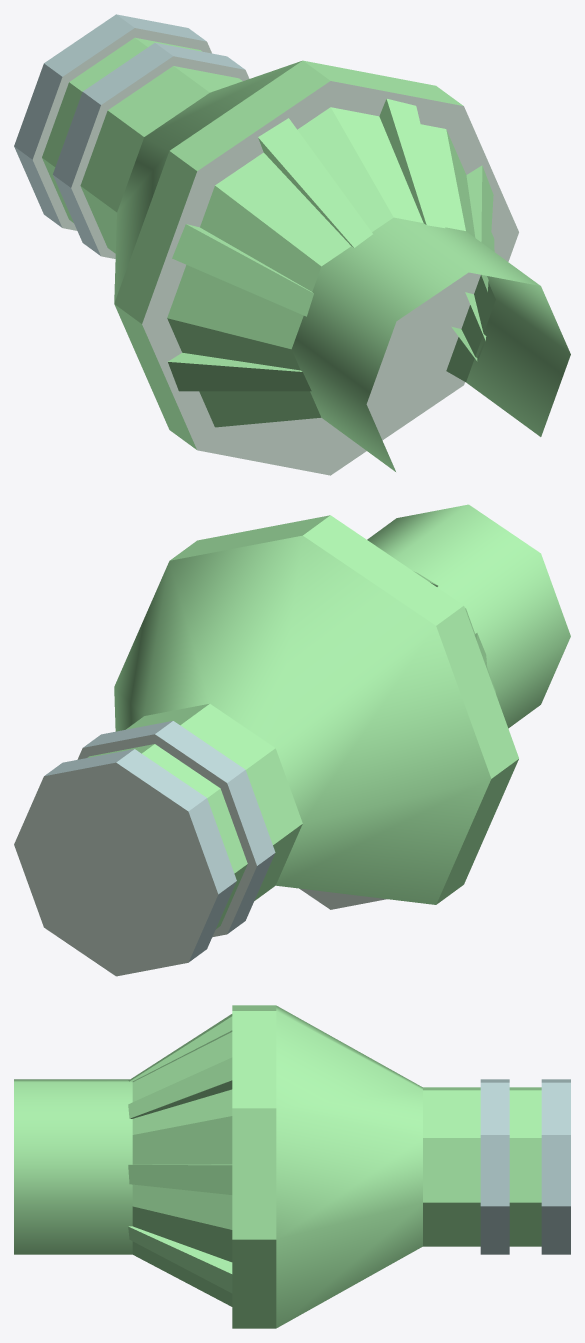
3 views of the same model, one above another, from view 1: azimuth 30°, elevation 25°; view 2: azimuth 150°, elevation 25°; view 3: azimuth 270°, elevation 25° (orthographic). The views are drawn at different scales.
Parts seen in each view (by area): view 1: Object58; view 2: Object58; view 3: Object58.
Boxes of the visible parts, box(x1,y1,x2,y2) form: Object58: box(14, 14, 570, 475); Object58: box(14, 504, 570, 976); Object58: box(14, 1005, 570, 1328).
Bounding box in the file's own units: 137 × 137 × 222.
